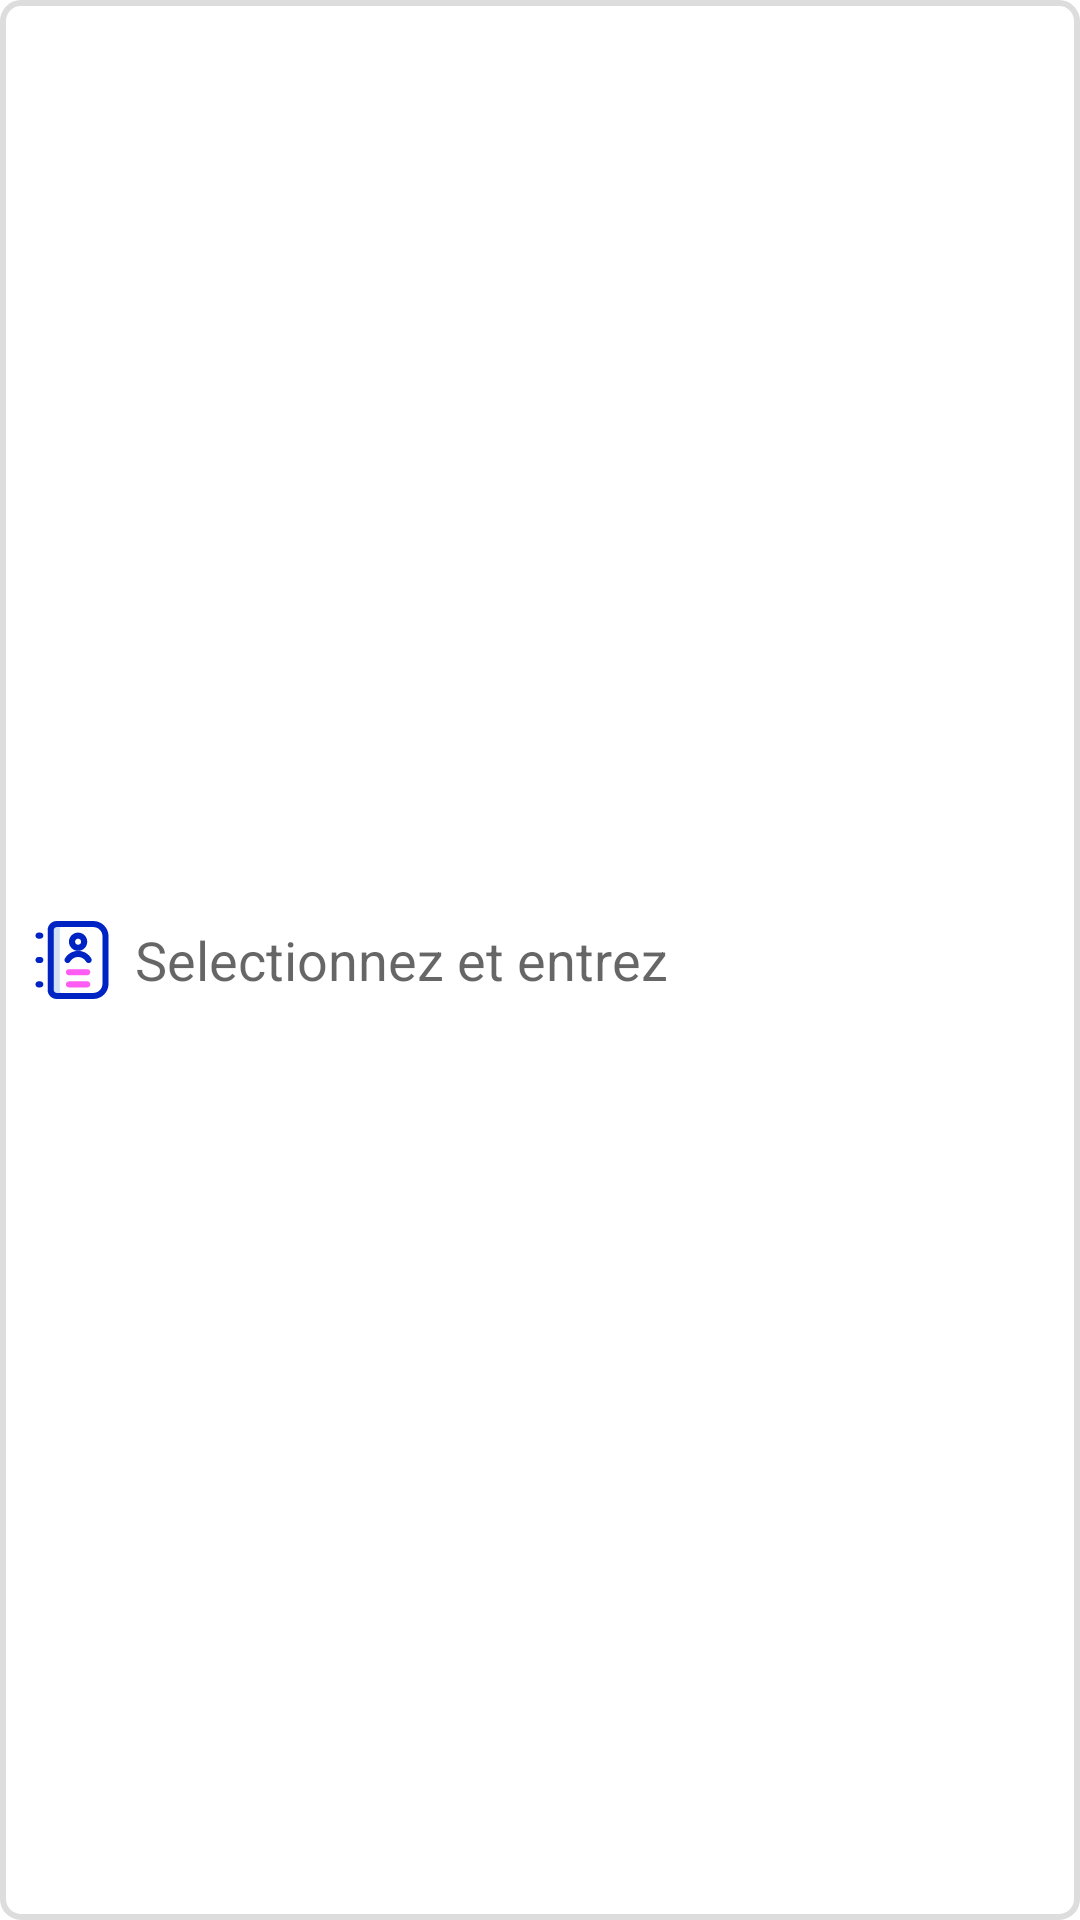

Locate icon controls on the screen. Image size 1080px x 1920px, boxes as box(x1, y1, x2, y2).
Pick contact from contact Activity: box(35, 921, 109, 999)
